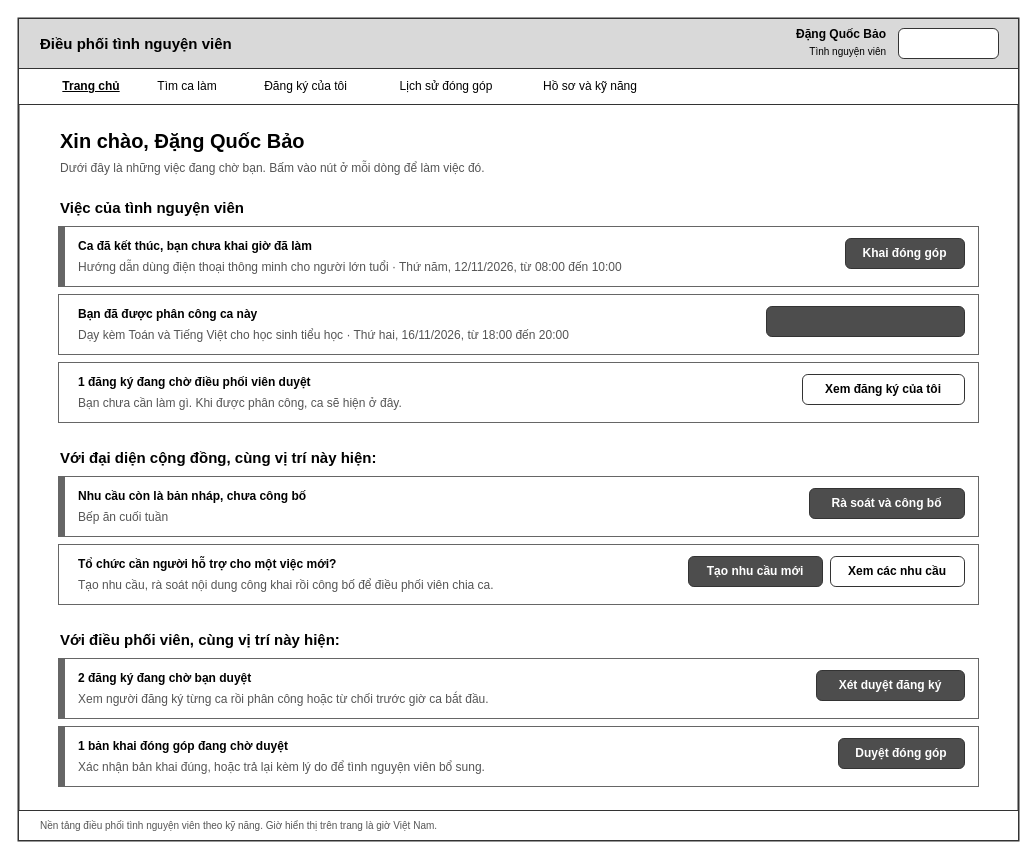
The diagram is 1036 pixels wide and 858 high, and some of its shapes have lost their labels. The centre of each missing label's shape, as x and y in pixels:
Xem hướng dẫn để đến làm: [865,321]
Đăng xuất: [948,43]
